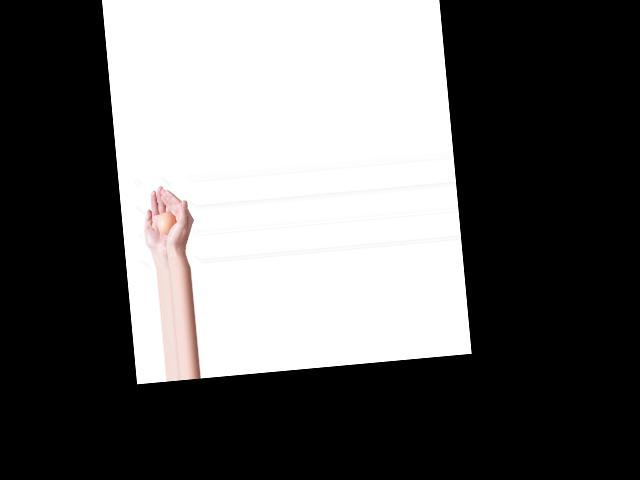egg: (157, 211, 176, 233)
